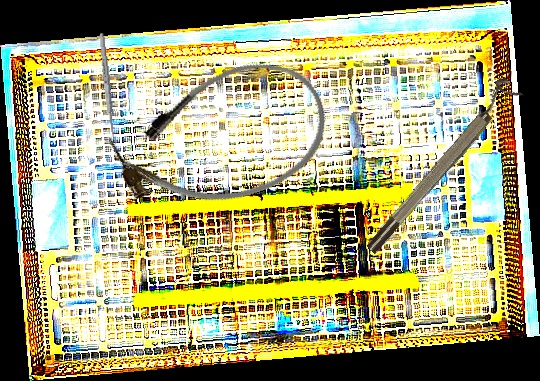Cannula: (98, 45, 344, 232)
Fixation Ring: (355, 74, 525, 258)
Surgical Spoon: (98, 32, 117, 147)
